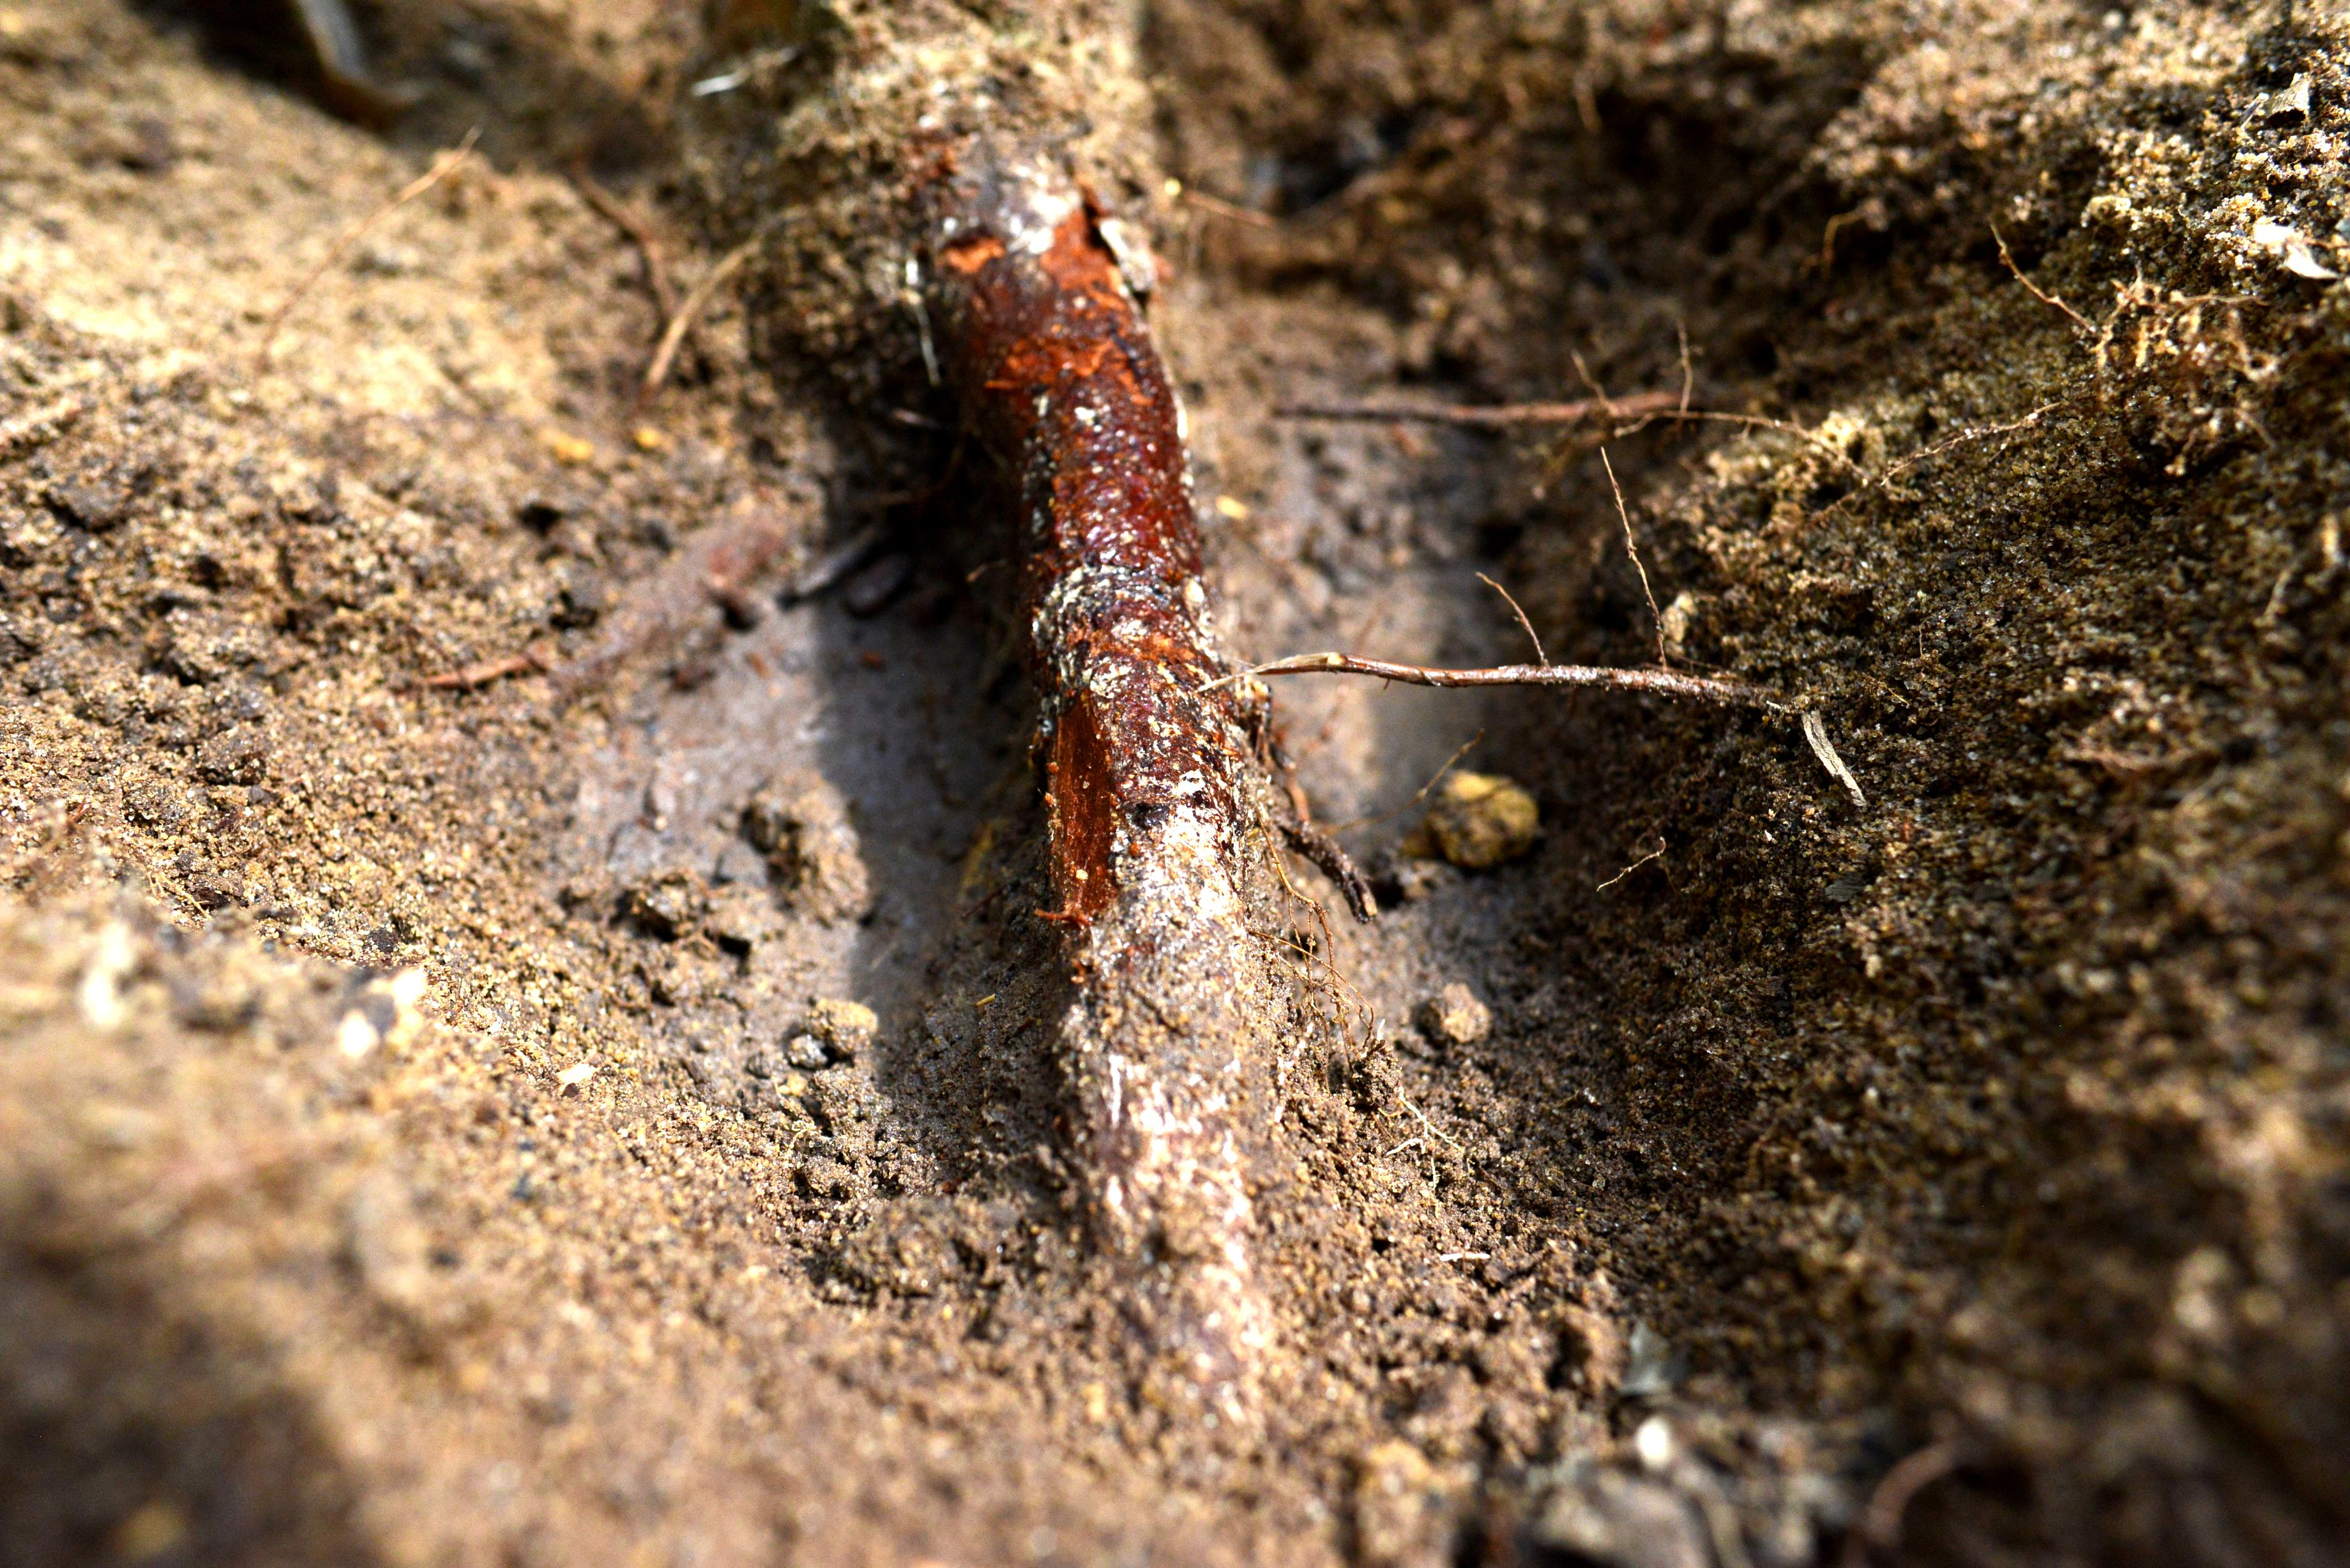Red Root Rot - Secretion: (940, 250, 1228, 903)
